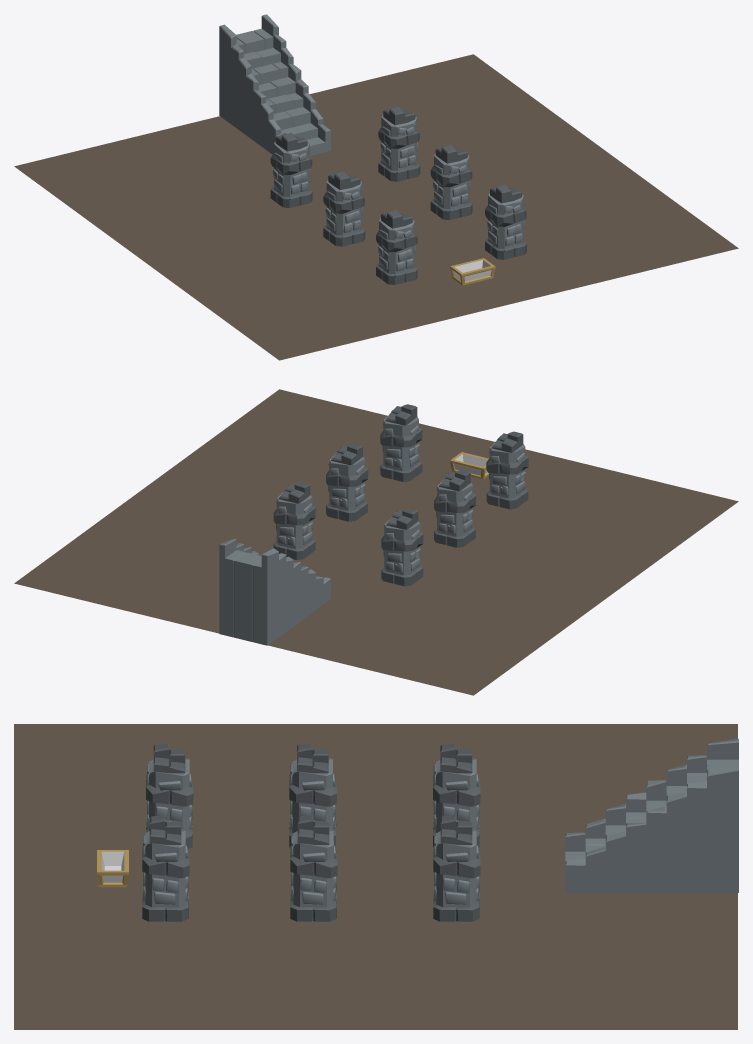
File: EscenaCofre.gltf
3 views of the same model, one above another, from view 1: azimuth 30°, elevation 25°; view 2: azimuth 150°, elevation 25°; view 3: azimuth 270°, elevation 25° (orthographic). The views are drawn at different scales.
Visible parts, largest first — view 1: Terra, stairs, Cube4465_1_1 (×2), Cube4465_1_3, Cube4465_1, Cube4465_1_2, Cube4465_1_5, Cube4465_1_4, Cube4465_3, Cube4465, Cube4465_2, Cube4465_5 (+1 smaller); view 2: Terra, stairs, Cube4465_1_1 (×2), Cube4465_1_5, Cube4465_1_4, Cube4465_1_2, Cube4465_1_3, Cube4465_1, Cube4465_4, Cube4465, Cube4465_5, Cube4465_2 (+1 smaller); view 3: Terra, stairs, Cube4465_1_1 (×2), Cube4465_1_2, Cube4465_1_5, Cube4465_1, Cube4465_2, Cube4465_5, Cube4465, Cube4465_1_4, Cube4465_1_3, Cube4465_4 (+3 smaller).
Boxes of the visible parts, x1=… form: Terra: x1=14, y1=54, x2=738, y2=360; stairs: x1=219, y1=14, x2=330, y2=155; Cube4465_1_1 (×2): x1=270, y1=132, x2=312, y2=207; Cube4465_1_3: x1=323, y1=171, x2=365, y2=246; Cube4465_1: x1=378, y1=106, x2=420, y2=181; Cube4465_1_2: x1=430, y1=144, x2=472, y2=220; Cube4465_1_5: x1=485, y1=184, x2=526, y2=259; Cube4465_1_4: x1=376, y1=209, x2=417, y2=284; Cube4465_3: x1=325, y1=180, x2=362, y2=235; Cube4465: x1=380, y1=115, x2=417, y2=170; Cube4465_2: x1=433, y1=153, x2=470, y2=209; Cube4465_5: x1=487, y1=193, x2=524, y2=248; Terra: x1=14, y1=389, x2=738, y2=695; stairs: x1=219, y1=539, x2=330, y2=645; Cube4465_1_1 (×2): x1=381, y1=508, x2=423, y2=586; Cube4465_1_5: x1=380, y1=404, x2=422, y2=481; Cube4465_1_4: x1=486, y1=431, x2=528, y2=509; Cube4465_1_2: x1=326, y1=444, x2=368, y2=521; Cube4465_1_3: x1=434, y1=470, x2=476, y2=547; Cube4465_1: x1=273, y1=482, x2=315, y2=559; Cube4465_4: x1=489, y1=440, x2=525, y2=498; Cube4465: x1=276, y1=490, x2=312, y2=549; Cube4465_5: x1=382, y1=413, x2=419, y2=470; Cube4465_2: x1=328, y1=452, x2=365, y2=510; Terra: x1=14, y1=724, x2=737, y2=1029; stairs: x1=565, y1=738, x2=738, y2=892; Cube4465_1_1 (×2): x1=433, y1=743, x2=480, y2=847; Cube4465_1_2: x1=290, y1=815, x2=337, y2=921; Cube4465_1_5: x1=142, y1=815, x2=189, y2=921; Cube4465_1: x1=433, y1=815, x2=480, y2=921; Cube4465_2: x1=291, y1=829, x2=336, y2=907; Cube4465_5: x1=143, y1=829, x2=188, y2=907; Cube4465: x1=434, y1=829, x2=479, y2=907; Cube4465_1_4: x1=146, y1=743, x2=193, y2=848; Cube4465_1_3: x1=289, y1=743, x2=336, y2=847; Cube4465_4: x1=147, y1=757, x2=192, y2=834.
Size of the model in its own units: 25 by 4.7 by 25.04.
